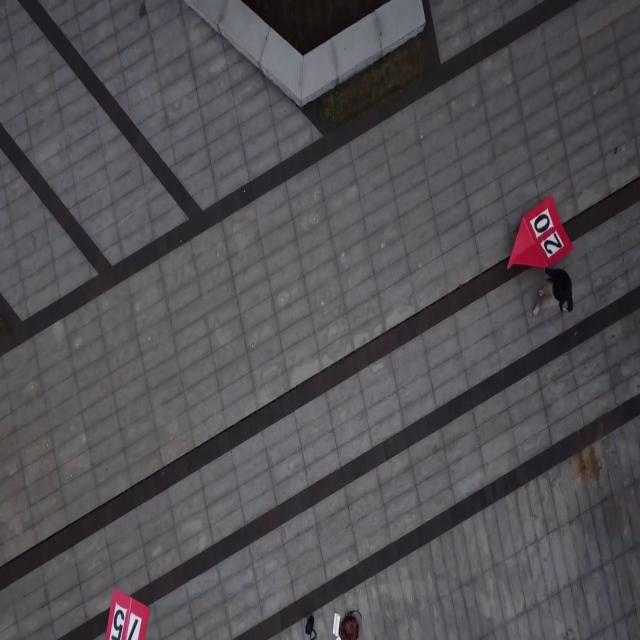-sign-: (506, 194, 574, 271)
